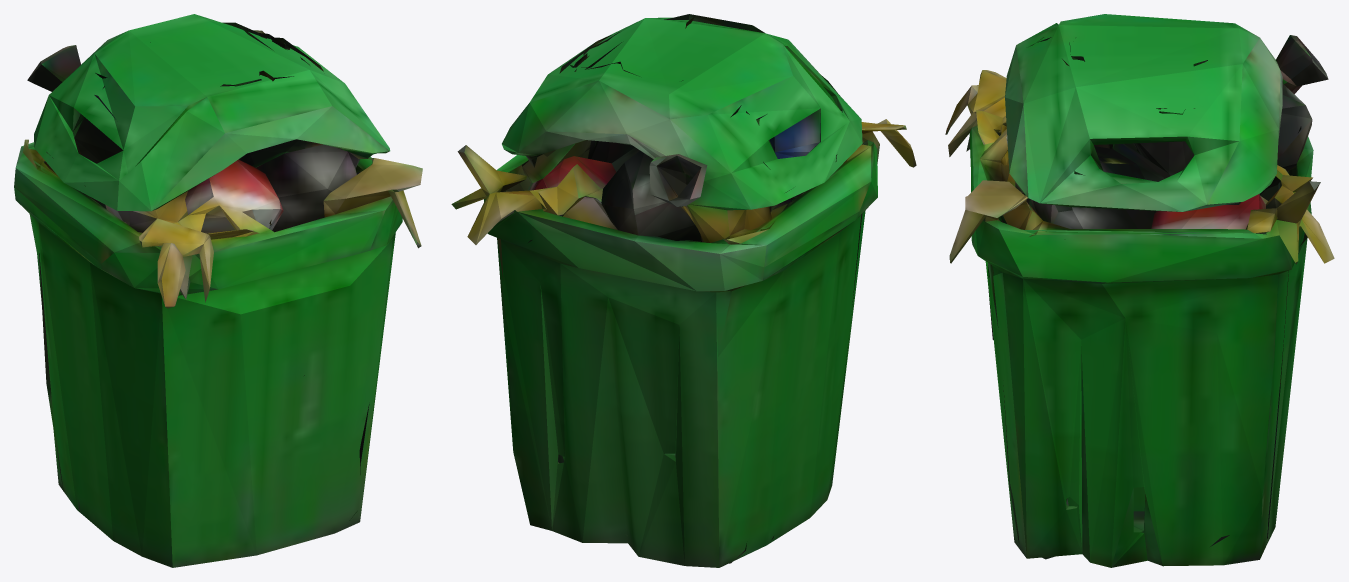
File: bin.glb
The picture shows the model from 3 angles, left to right: view 1: azimuth 30°, elevation 25°; view 2: azimuth 150°, elevation 25°; view 3: azimuth 270°, elevation 25°; orthographic projection. The views are drawn at different scales.
Visible parts, largest first — view 1: geometry_0; view 2: geometry_0; view 3: geometry_0.
Part boxes in pixels (x1,y1,x2,y2): geometry_0: (14,14,422,567); geometry_0: (451,14,916,567); geometry_0: (945,14,1334,567).
Bounding box in the file's own units: 0.674 × 0.9731 × 0.7336.
Materials: 1 (1 with a texture image).
